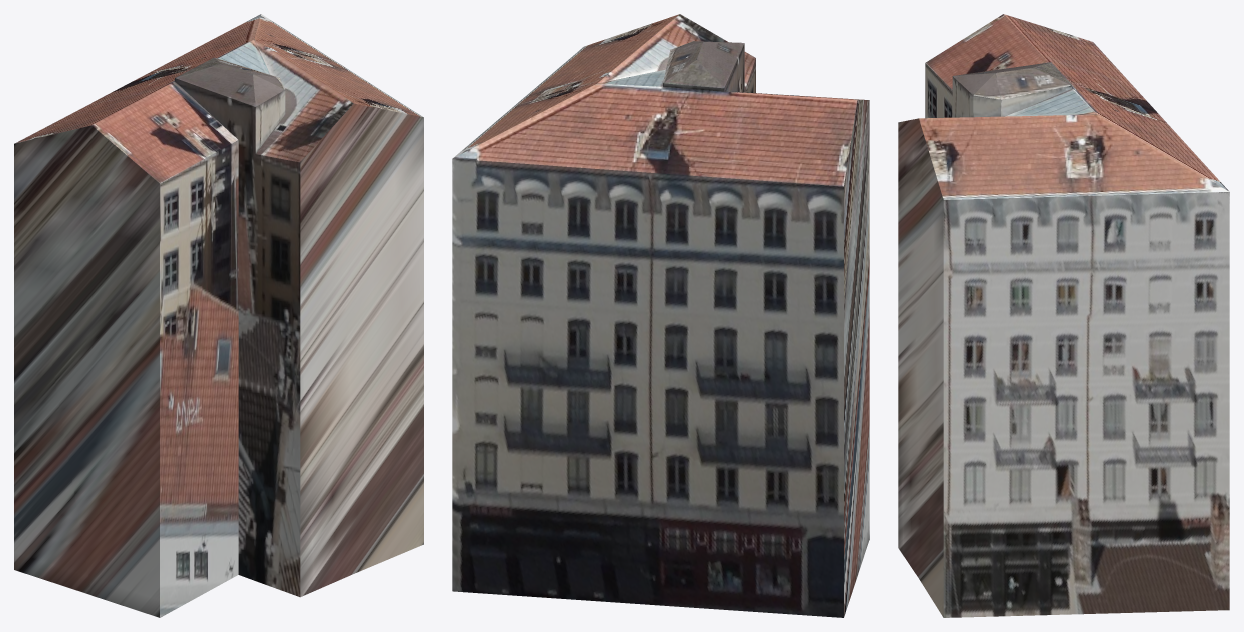
The picture shows the model from 3 angles, left to right: view 1: azimuth 30°, elevation 25°; view 2: azimuth 150°, elevation 25°; view 3: azimuth 270°, elevation 25°; orthographic projection. The views are drawn at different scales.
Parts seen in each view (by area): view 1: Z_UP; view 2: Z_UP; view 3: Z_UP.
Part boxes in pixels (bbox=[...]): Z_UP: bbox=[14, 14, 423, 617]; Z_UP: bbox=[452, 14, 869, 617]; Z_UP: bbox=[898, 14, 1229, 617].
Bounding box in the file's own units: 20.11 × 28.05 × 17.7.
2 materials, 1 textured.
